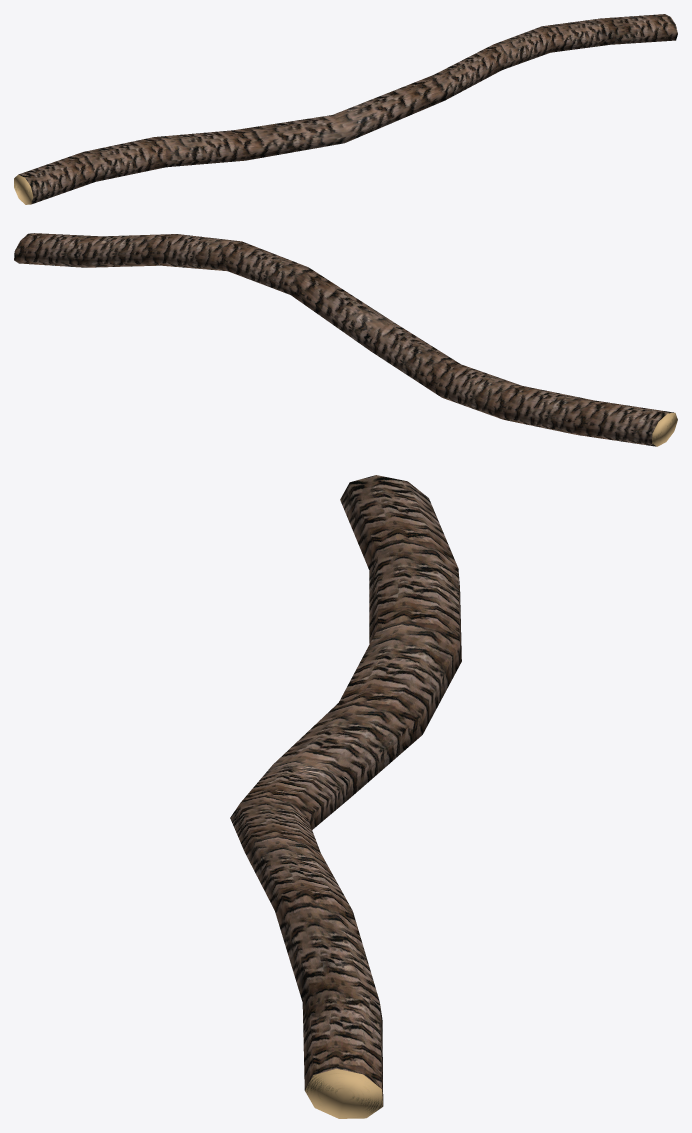
Rendered from PalmTwist9Shape.dae.
3 views of the same model, one above another, from view 1: azimuth 30°, elevation 25°; view 2: azimuth 150°, elevation 25°; view 3: azimuth 270°, elevation 25° (orthographic). The views are drawn at different scales.
Parts seen in each view (by area): view 1: PalmTwist9; view 2: PalmTwist9; view 3: PalmTwist9.
Boxes of the visible parts, left/top/right/bottom form: PalmTwist9: left=14, top=14, right=677, bottom=204; PalmTwist9: left=14, top=233, right=677, bottom=446; PalmTwist9: left=230, top=475, right=461, bottom=1118.
Size of the model in its own units: 165 by 18 by 25.88.
